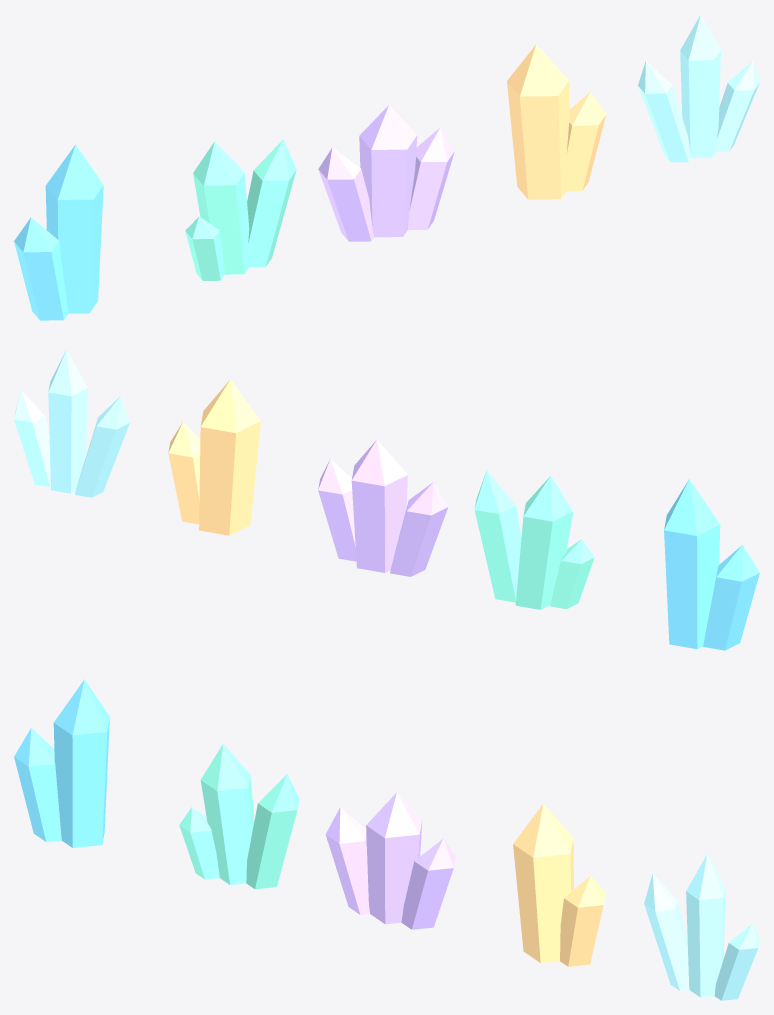
Rendered from rocklock-crystals.fbx.
3 renders of one model, top to bottom at view 1: azimuth 30°, elevation 25°; view 2: azimuth 150°, elevation 25°; view 3: azimuth 330°, elevation 25°, orthographic.
Visible parts, largest first — view 1: AmberTwin_0, AzureSpears_0, AmethystCrown_0, JadeFan_0, FrostSpray_0, JadeFan_1, AzureSpears_1, AmethystCrown_1, AmethystCrown_2, FrostSpray_1, AmberTwin_1, FrostSpray_2 (+1 smaller); view 2: AmberTwin_0, AzureSpears_0, AmethystCrown_0, JadeFan_0, FrostSpray_0, JadeFan_1, AzureSpears_1, AmethystCrown_1, FrostSpray_1, AmethystCrown_2, AmberTwin_1, FrostSpray_2 (+1 smaller); view 3: AzureSpears_0, AmberTwin_0, AmethystCrown_0, JadeFan_0, FrostSpray_0, JadeFan_1, AzureSpears_1, AmethystCrown_2, AmethystCrown_1, FrostSpray_1, AmberTwin_1, FrostSpray_2 (+1 smaller).
Part boxes in pixels (<box>): AmberTwin_0: <box>507,44,569,199</box>; AzureSpears_0: <box>45,144,103,313</box>; AmethystCrown_0: <box>359,105,417,237</box>; JadeFan_0: <box>193,141,249,274</box>; FrostSpray_0: <box>680,14,720,158</box>; JadeFan_1: <box>247,139,296,267</box>; AzureSpears_1: <box>14,217,68,320</box>; AmethystCrown_1: <box>318,147,374,241</box>; AmethystCrown_2: <box>408,127,454,230</box>; FrostSpray_1: <box>638,61,691,162</box>; AmberTwin_1: <box>566,92,606,191</box>; FrostSpray_2: <box>716,60,759,151</box>; AmberTwin_0: <box>199,379,260,535</box>; AzureSpears_0: <box>664,479,720,649</box>; AmethystCrown_0: <box>351,440,407,572</box>; JadeFan_0: <box>515,476,573,609</box>; FrostSpray_0: <box>48,349,87,493</box>; JadeFan_1: <box>474,470,521,602</box>; AzureSpears_1: <box>703,545,759,650</box>; AmethystCrown_1: <box>390,482,448,576</box>; FrostSpray_1: <box>75,395,129,497</box>; AmethystCrown_2: <box>318,459,356,561</box>; AmberTwin_1: <box>168,421,200,524</box>; FrostSpray_2: <box>14,390,50,487</box>; AzureSpears_0: <box>53,679,109,847</box>; AmberTwin_0: <box>513,803,573,962</box>; AmethystCrown_0: <box>366,792,422,924</box>; JadeFan_0: <box>200,744,254,884</box>; FrostSpray_0: <box>686,854,725,997</box>; JadeFan_1: <box>246,774,299,889</box>; AzureSpears_1: <box>14,728,61,841</box>; AmethystCrown_2: <box>401,838,455,929</box>; AmethystCrown_1: <box>325,807,369,914</box>; FrostSpray_1: <box>644,873,689,991</box>; AmberTwin_1: <box>560,875,605,966</box>; FrostSpray_2: <box>714,923,759,1000</box>.
Size of the model in its own units: 3786 by 780 by 271.
